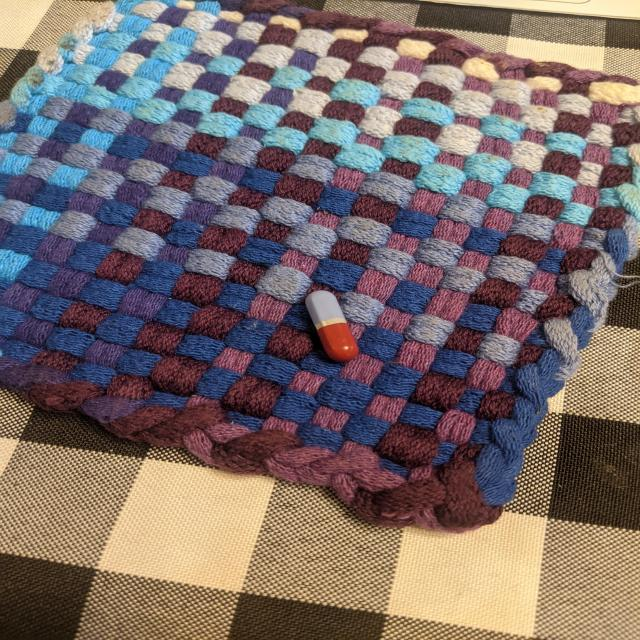non-organic waste: (304, 290, 360, 363)
